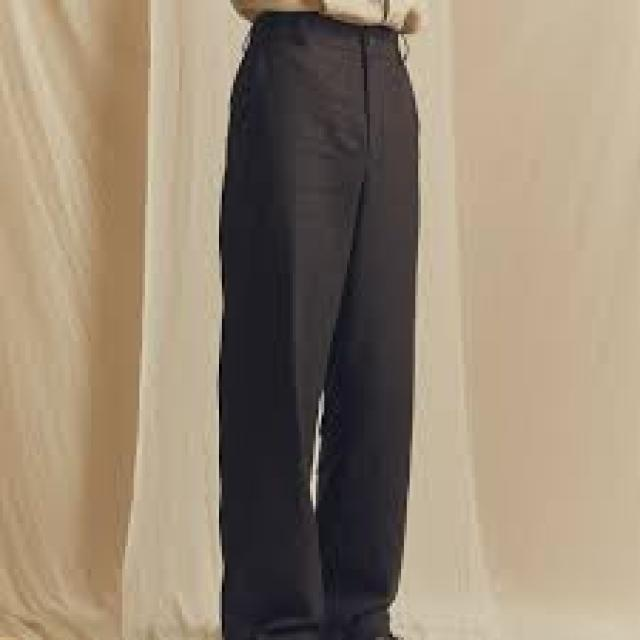pants: (218, 8, 422, 640)
